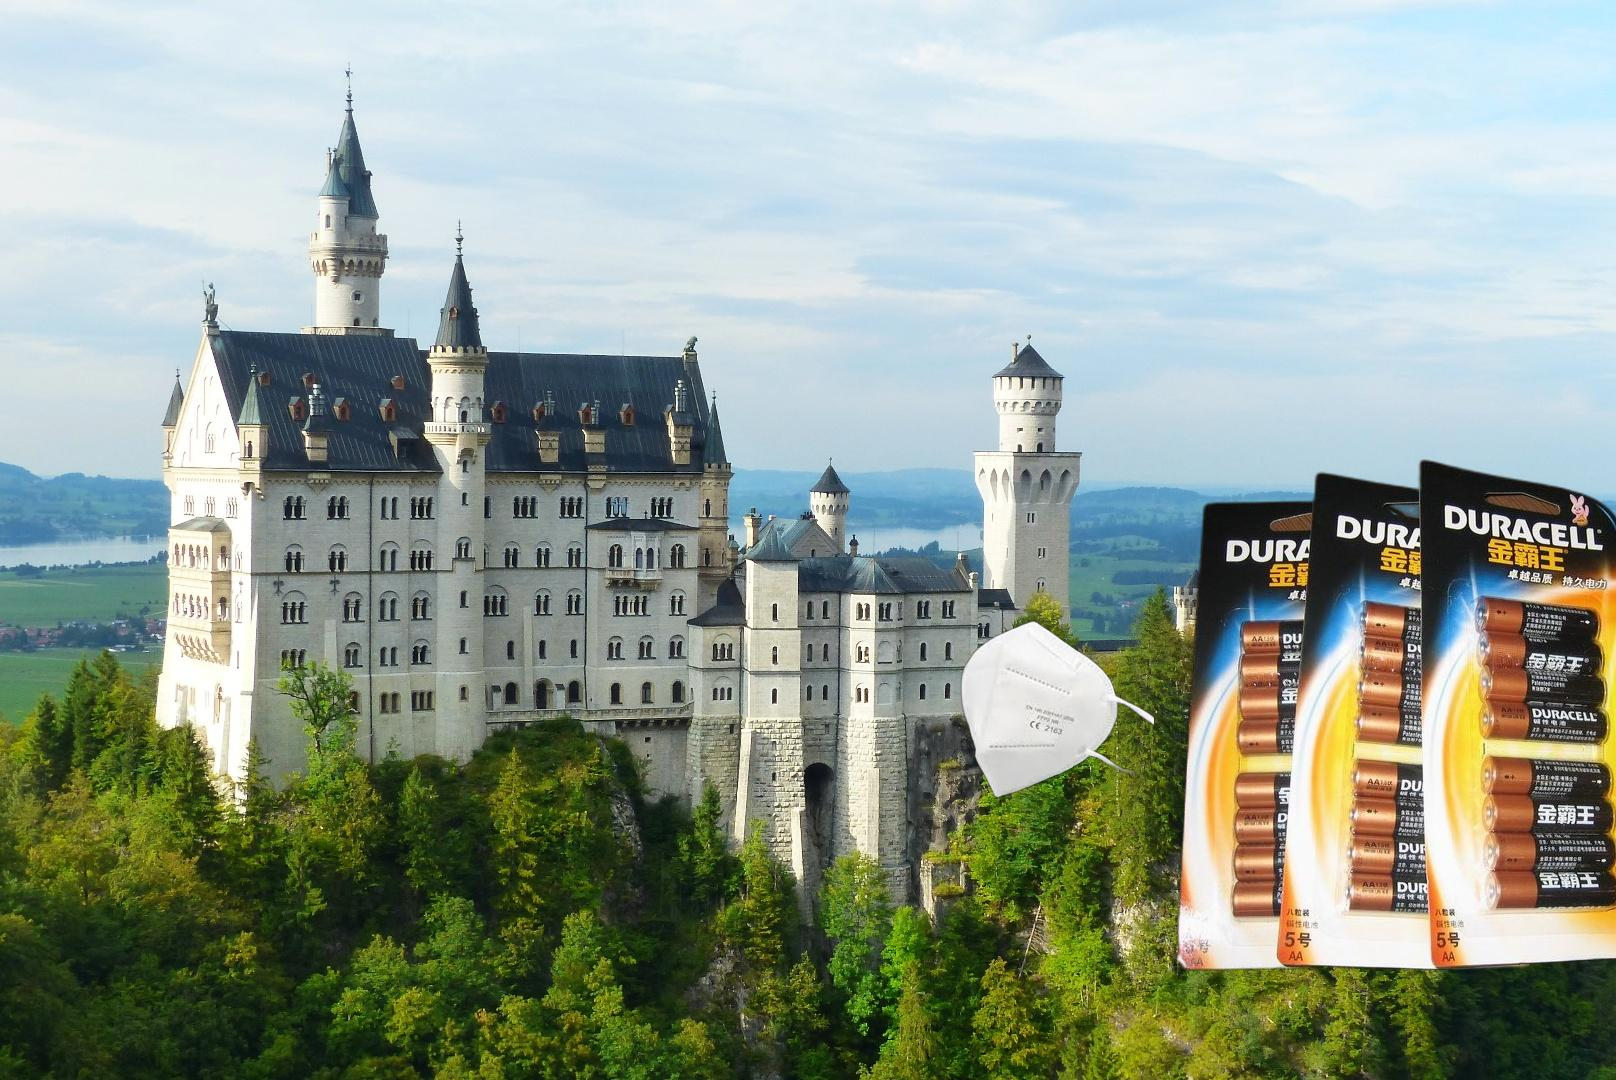battery: (1169, 456, 1616, 976)
trash: (958, 618, 1154, 800)
